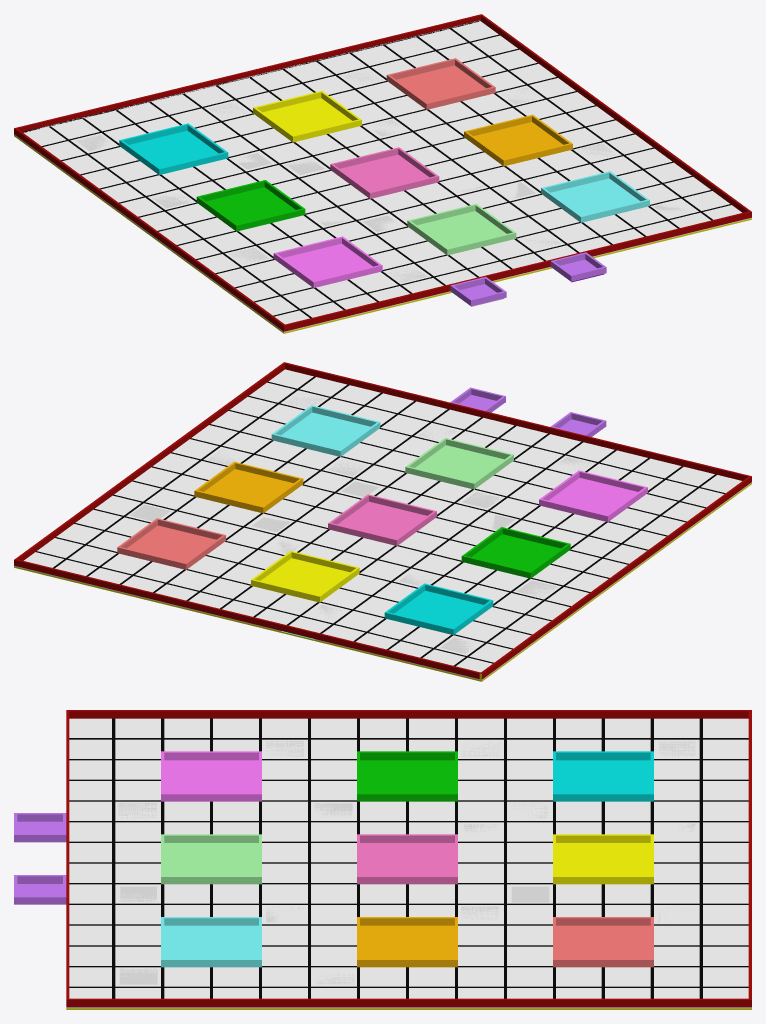
The model's file is arena_s2.dae.
The picture shows the model from 3 angles, top to bottom: view 1: azimuth 30°, elevation 25°; view 2: azimuth 150°, elevation 25°; view 3: azimuth 270°, elevation 25°; orthographic projection. The views are drawn at different scales.
Visible parts, largest first — view 1: Stage2.001; view 2: Stage2.001; view 3: Stage2.001.
Boxes of the visible parts, x1=… form: Stage2.001: x1=14, y1=14, x2=751, y2=333; Stage2.001: x1=14, y1=362, x2=751, y2=681; Stage2.001: x1=14, y1=710, x2=751, y2=1009.
Size of the model in its own units: 84 by 90.39 by 1.36.
